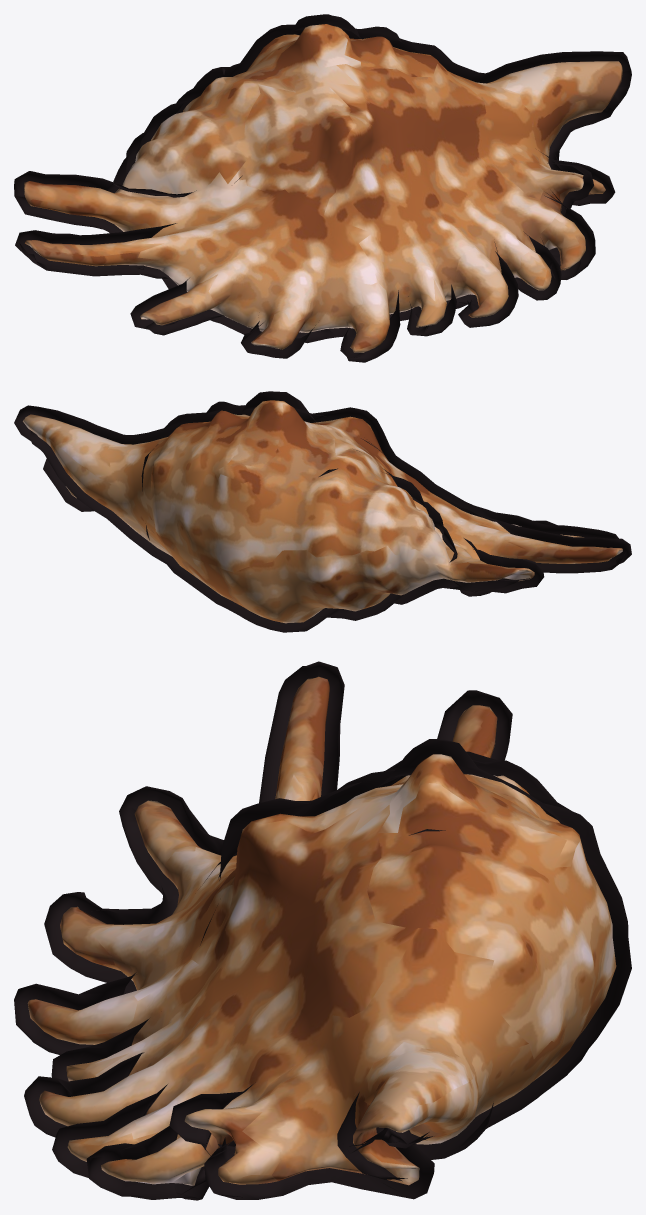
File: SM_Int_Shell.fbx
The picture shows the model from 3 angles, top to bottom: view 1: azimuth 30°, elevation 25°; view 2: azimuth 150°, elevation 25°; view 3: azimuth 270°, elevation 25°; orthographic projection. The views are drawn at different scales.
Parts seen in each view (by area): view 1: SM_Int_Shell; view 2: SM_Int_Shell; view 3: SM_Int_Shell.
Part boxes in pixels (x1,y1,x2,y2): SM_Int_Shell: [14, 14, 631, 362]; SM_Int_Shell: [14, 391, 631, 632]; SM_Int_Shell: [14, 661, 631, 1200].
Size of the model in its own units: 0.1432 by 0.0504 by 0.0782.
